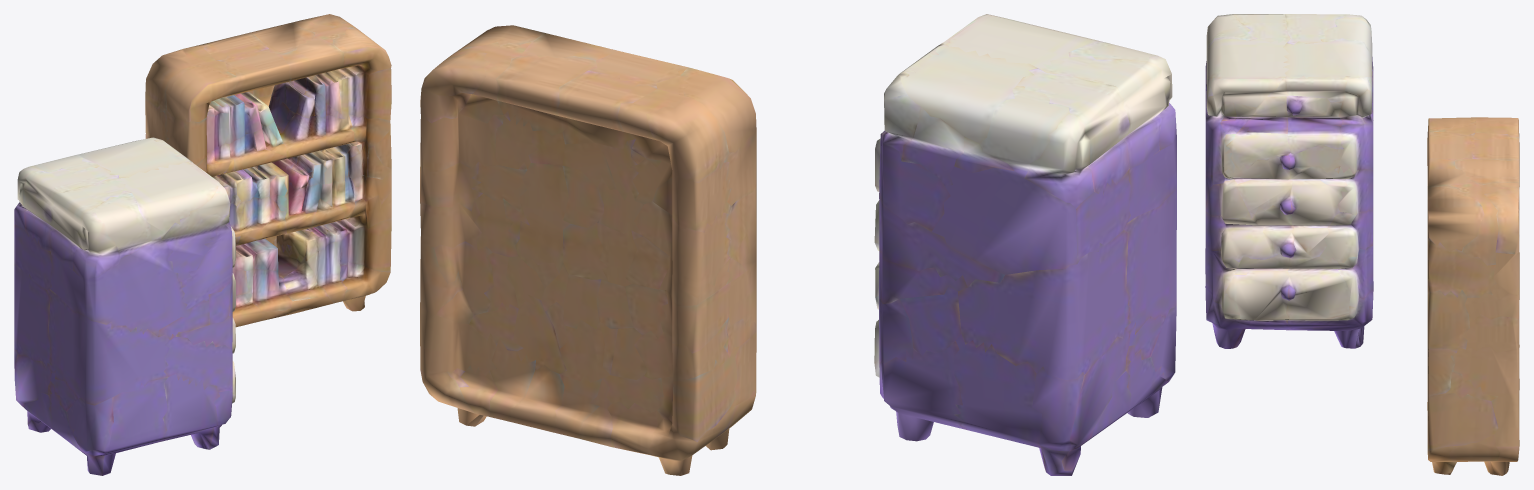
Rendered from cabinet_shelf.glb.
3 views of the same model, side by side, from view 1: azimuth 30°, elevation 25°; view 2: azimuth 150°, elevation 25°; view 3: azimuth 270°, elevation 25° (orthographic). The views are drawn at different scales.
Bounding box in the file's own units: 1.27 × 0.7939 × 0.8161.
Materials: 1 (1 with a texture image).
